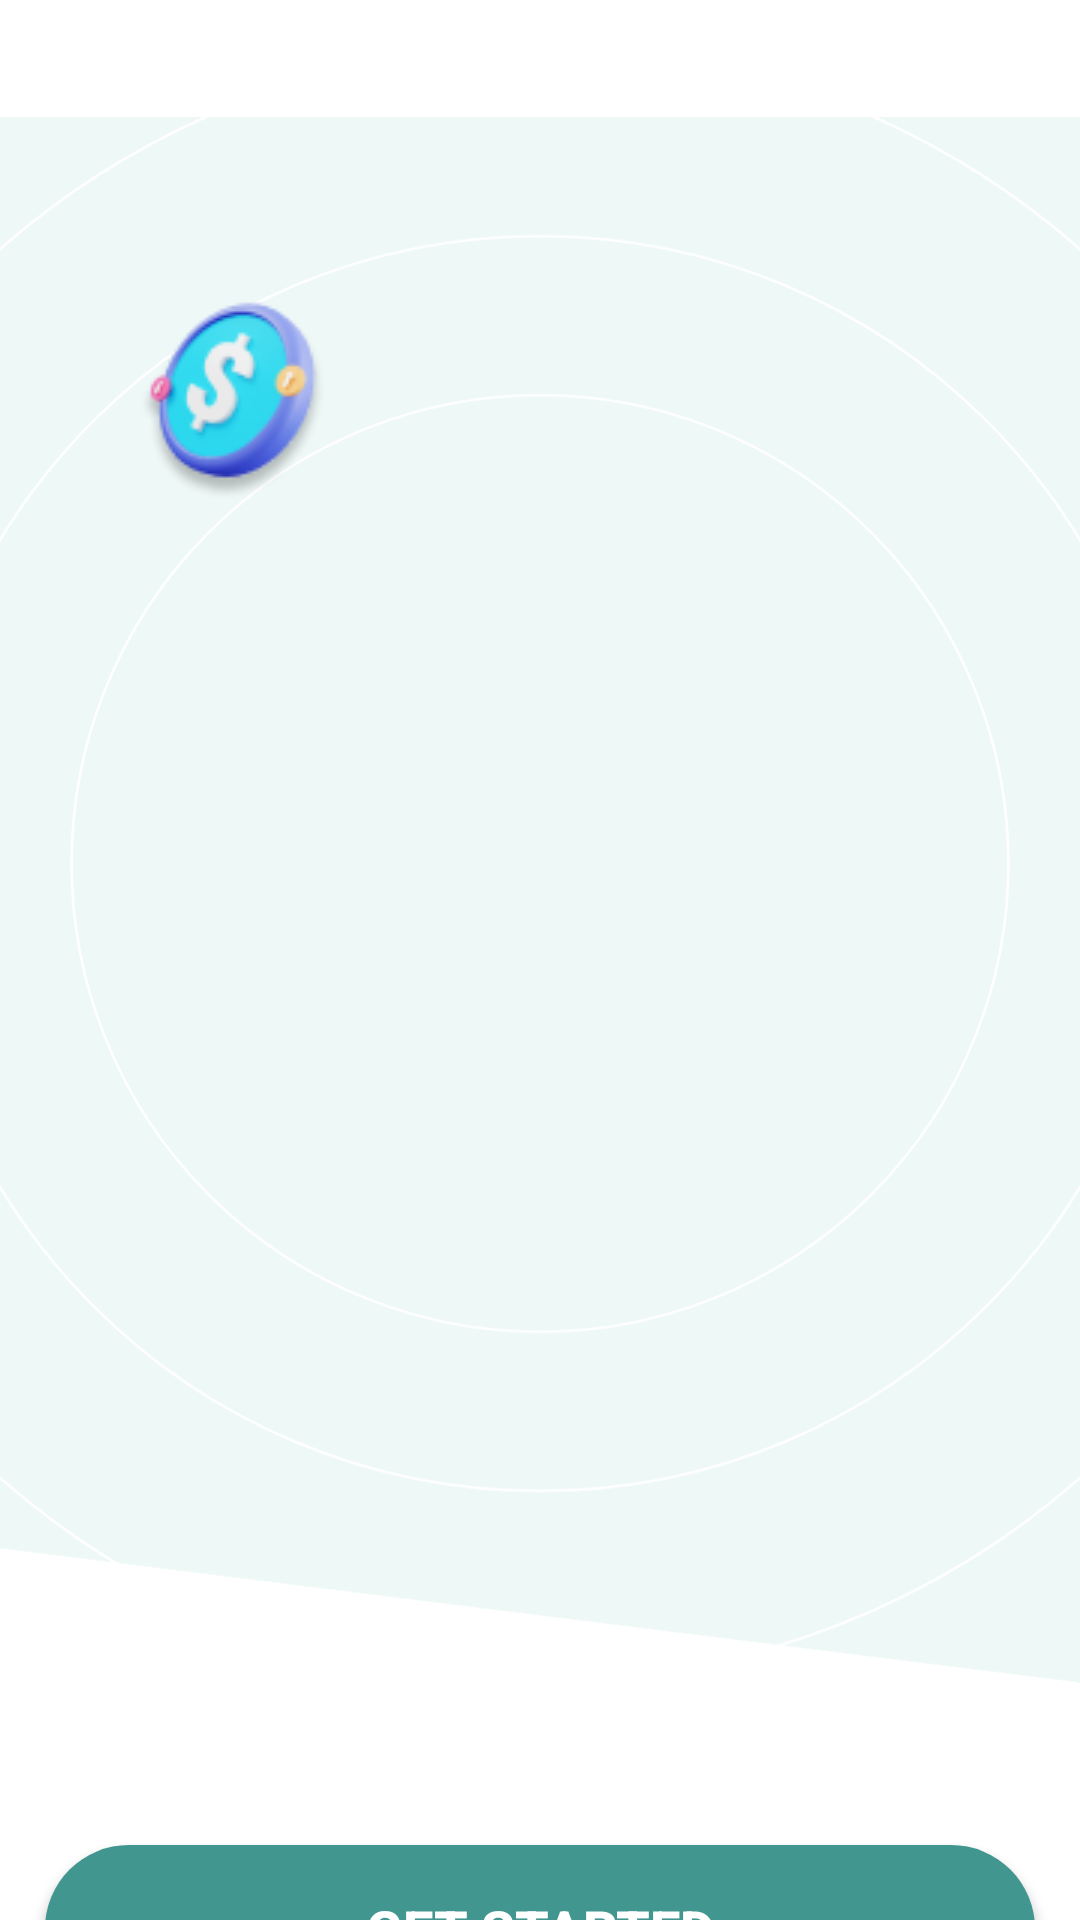

Named icons in this screenshot (1080w x 1920h) and their centers, point (x, y):
onboardcoint: point (233, 396)
